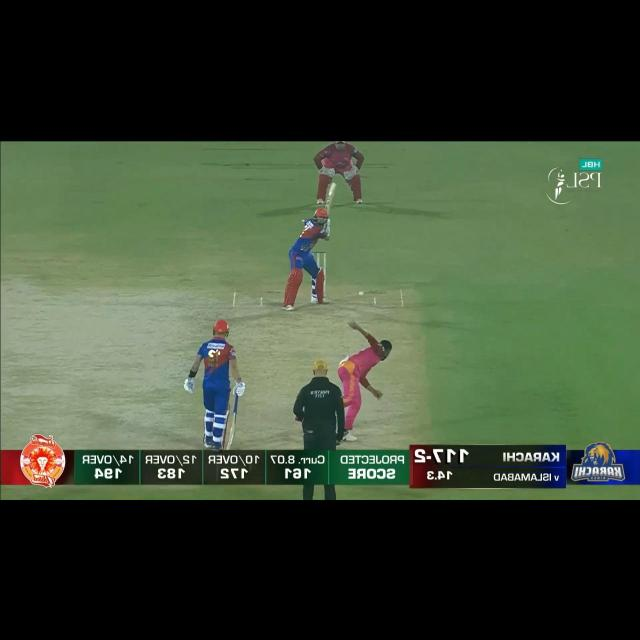bat: (323, 182, 336, 216), (227, 414, 238, 452)
toe: (328, 181, 336, 191), (225, 443, 233, 452)
